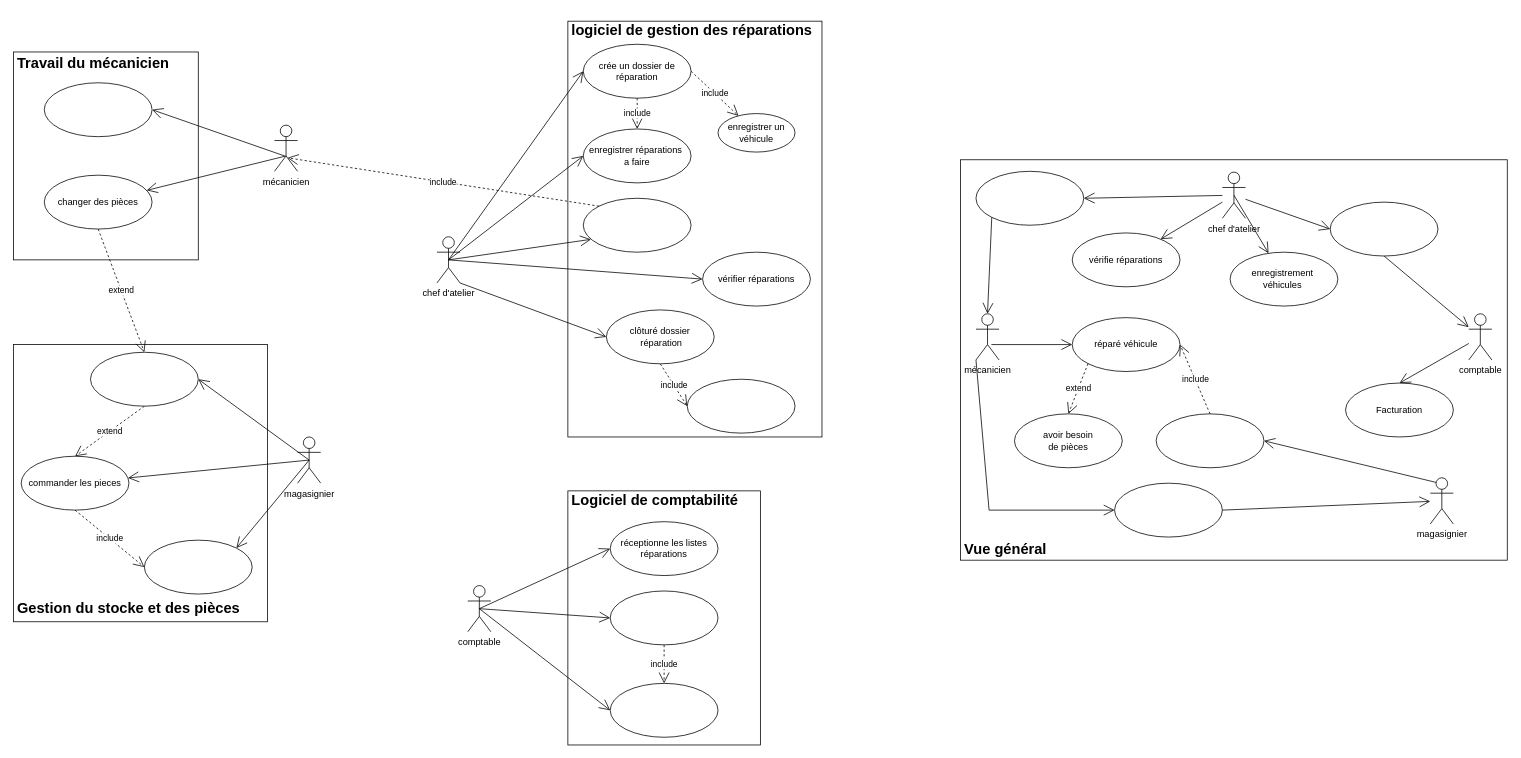
Some shapes in this 1521 by 758 pixel diagram are drawn without their labels. The shapes that lost their labels are listed below. From the top down, each one's box as (x1, y1, x2, y2) in pixels, then its label:
(44, 82, 152, 137): faire les réparations enregistrés
(975, 171, 1084, 225): designer mécanicien
(583, 198, 691, 252): définir quel mécanicien travail sur quel véhicule
(1329, 201, 1438, 256): liste les réparations et des pièces
(90, 352, 198, 406): donner les pieces
(686, 378, 795, 433): envoyer liste des réparations
(1155, 413, 1264, 468): fournir pièces
(1114, 482, 1222, 537): demande pièces
(144, 539, 252, 594): réceptionner les pièces
(609, 590, 718, 645): émet factures
(609, 683, 718, 737): imprime les factures
